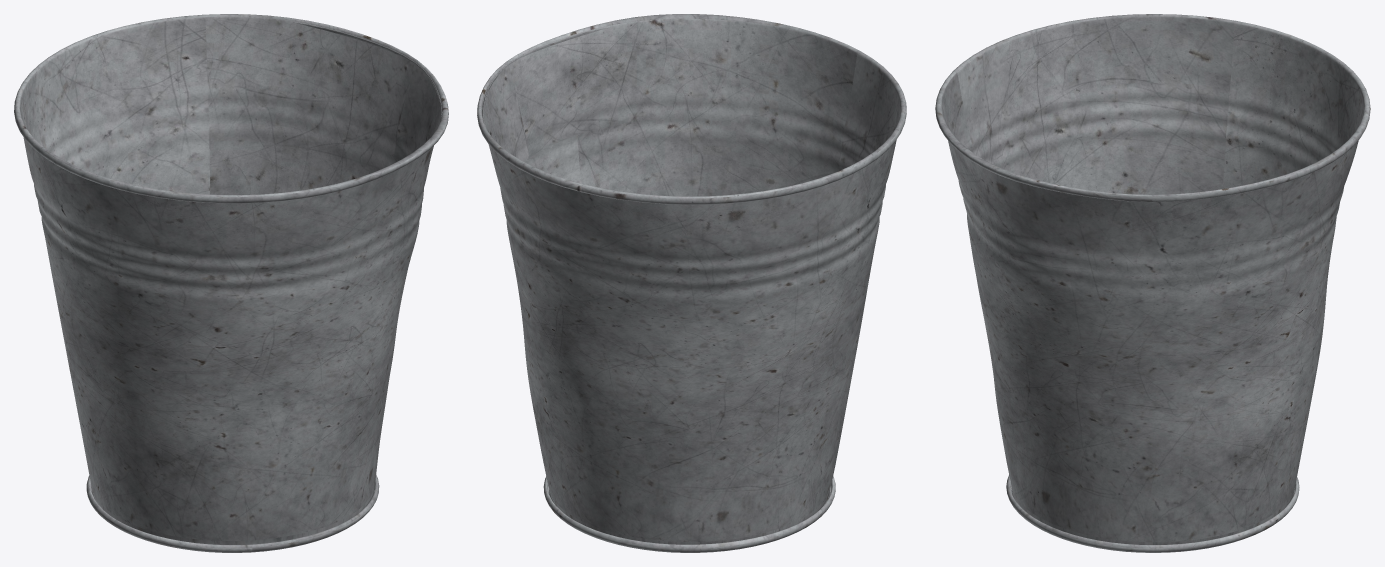
File: bucket.fbx
3 views of the same model, side by side, from view 1: azimuth 30°, elevation 25°; view 2: azimuth 150°, elevation 25°; view 3: azimuth 270°, elevation 25° (orthographic).
Parts seen in each view (by area): view 1: Bucket; view 2: Bucket; view 3: Bucket.
Boxes of the visible parts, box(x1,y1,x2,y2) form: Bucket: box(14, 14, 448, 552); Bucket: box(477, 14, 906, 552); Bucket: box(935, 14, 1370, 552).
Size of the model in its own units: 30.88 by 30.65 by 31.12.
